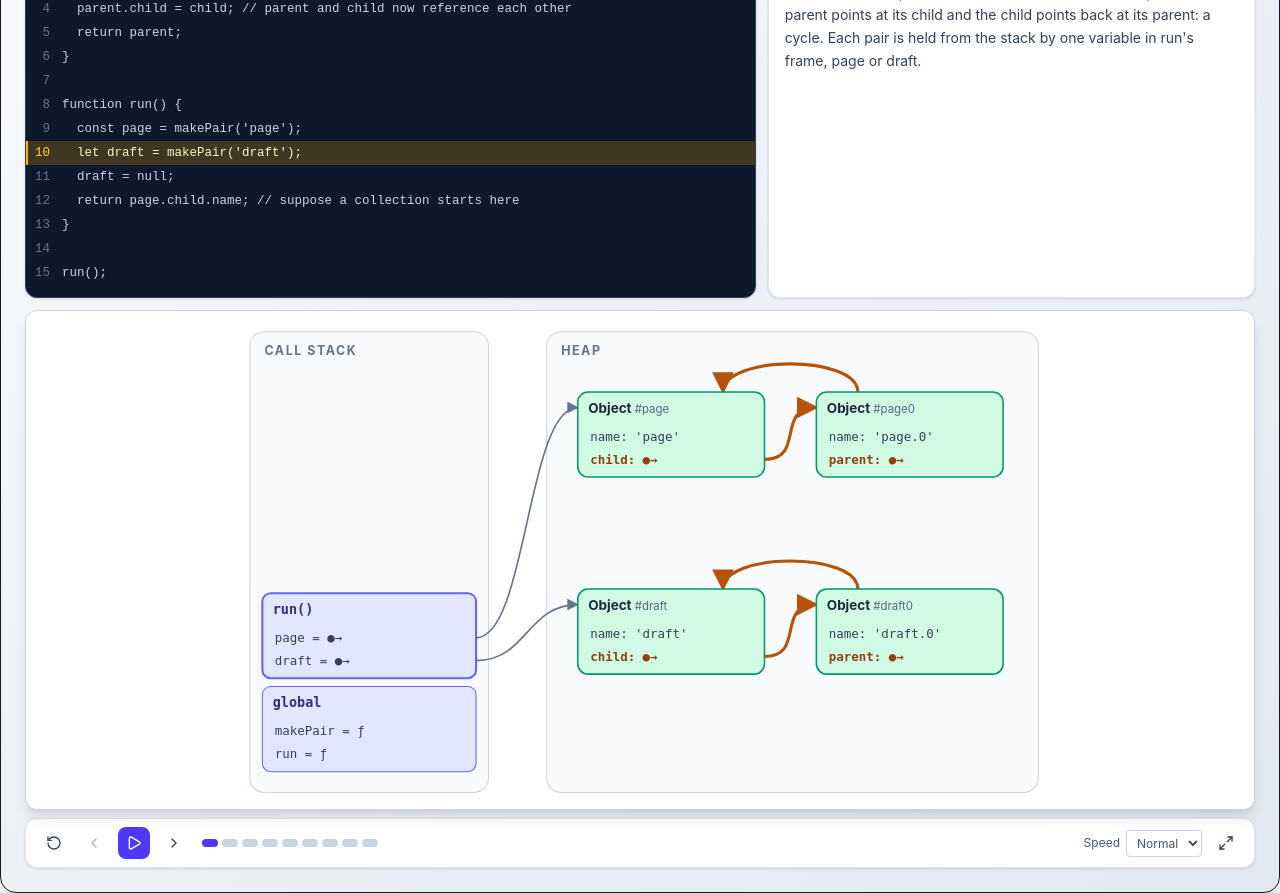
Test: GarbageCollectionStory › starts in 2D on beat 1 and steps forward and back
(page scrolled)
Check: the button named "Previous beat" is disabled, box x1=78 y1=827 x2=110 y2=859
Click the button named "Next beat".
click(174, 843)  # box x1=158 y1=827 x2=190 y2=859
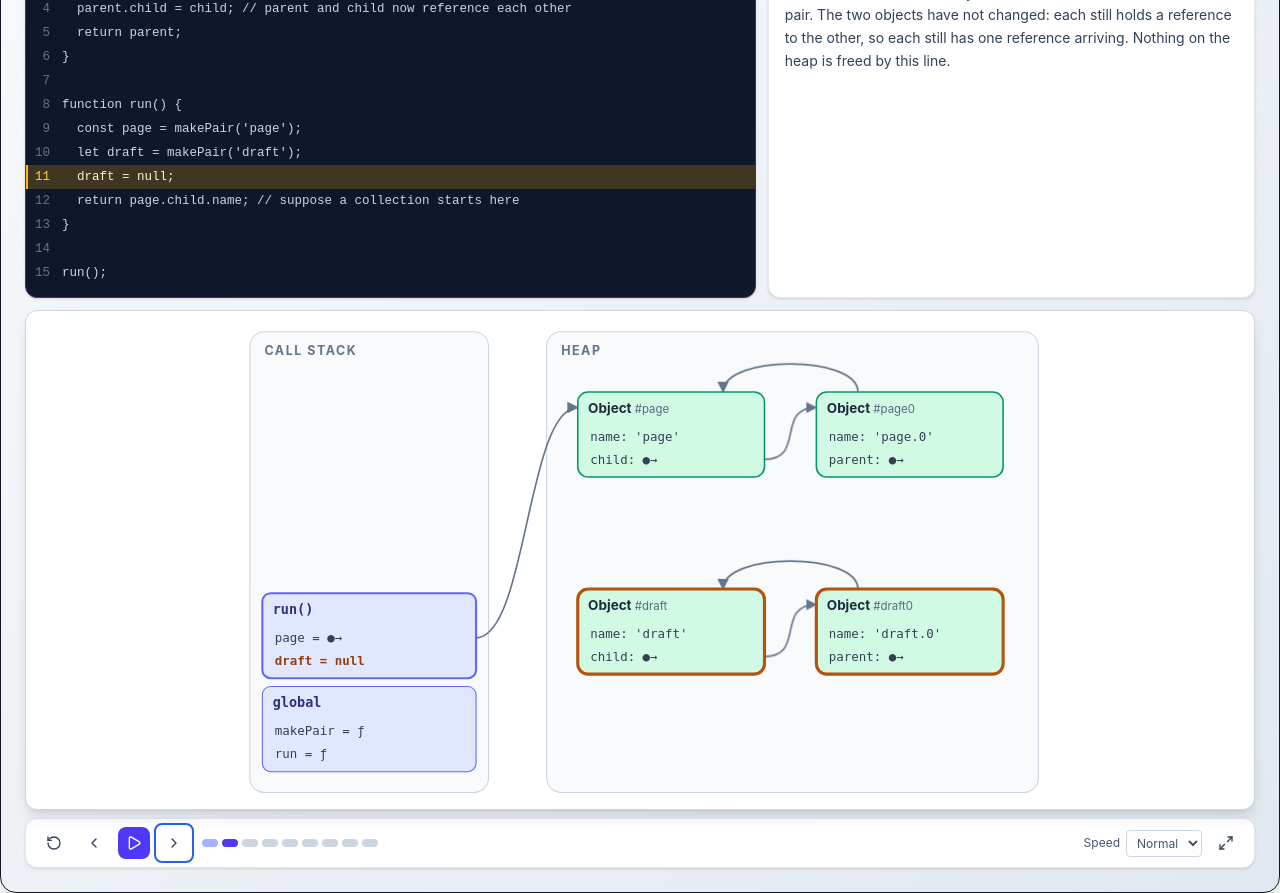
Click the button named "Previous beat".
click(94, 843)  # box x1=78 y1=827 x2=110 y2=859
(page scrolled)
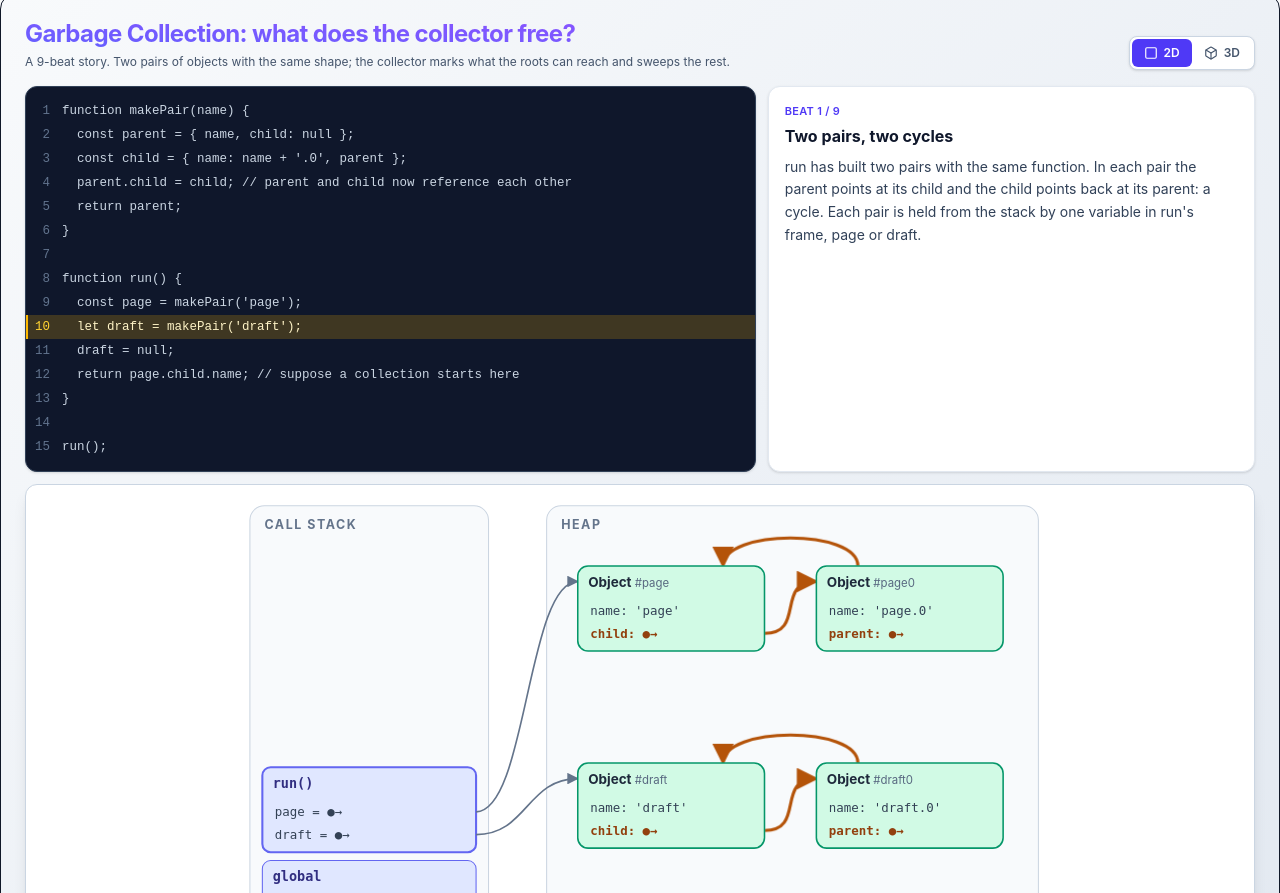
Check: the heading "Two pairs, two cycles" is shown, box x1=785 y1=126 x2=953 y2=146
